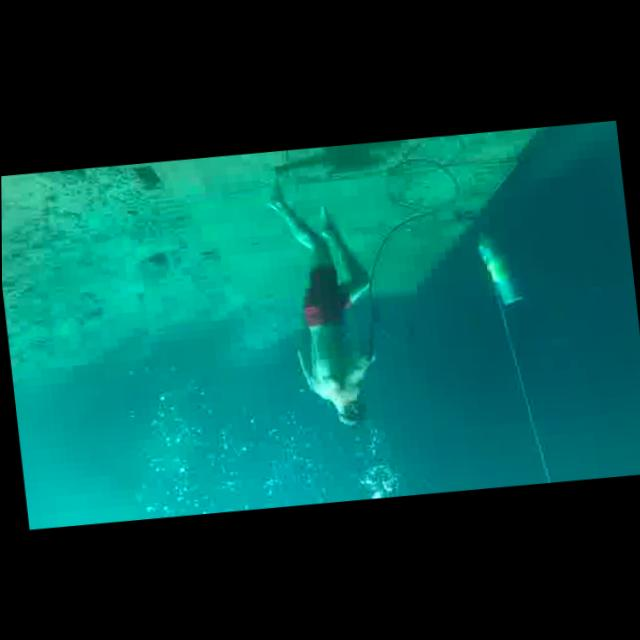human: (261, 160, 394, 437)
